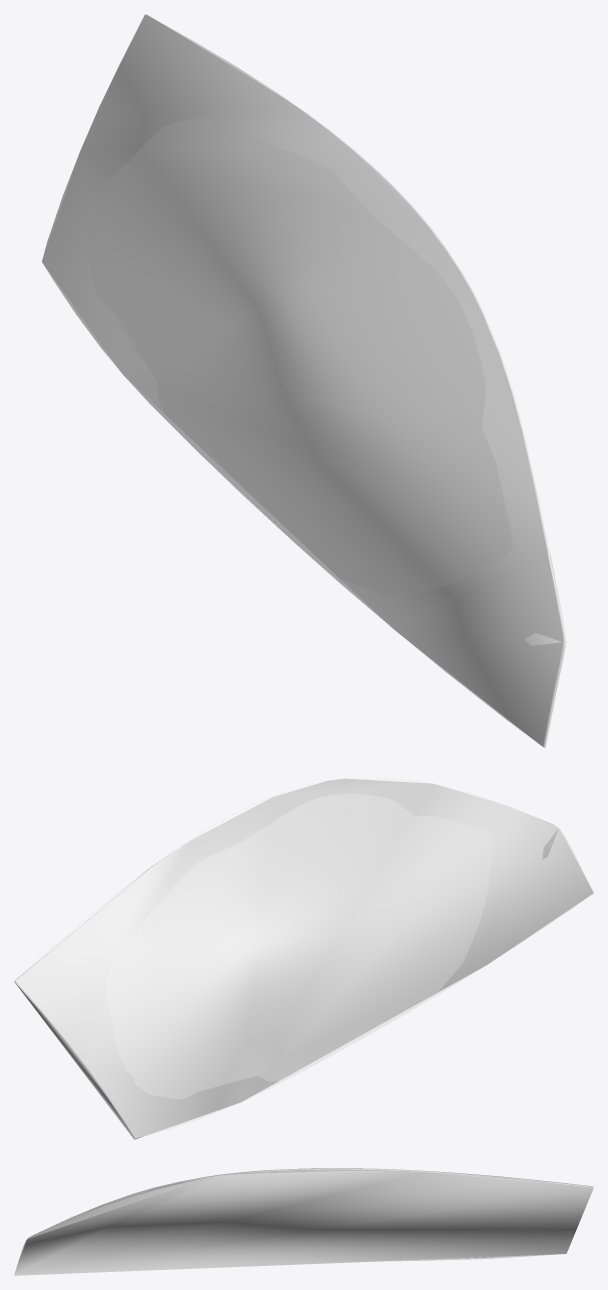
The picture shows the model from 3 angles, top to bottom: view 1: azimuth 30°, elevation 25°; view 2: azimuth 150°, elevation 25°; view 3: azimuth 270°, elevation 25°; orthographic projection. The views are drawn at different scales.
Parts seen in each view (by area): view 1: glass_eclipse_side_window_l_01, glass_eclipse_side_window_l_01_col; view 2: glass_eclipse_side_window_l_01, glass_eclipse_side_window_l_01_col; view 3: glass_eclipse_side_window_l_01_col, glass_eclipse_side_window_l_01.
Part boxes in pixels (x1,y1,x2,y2): glass_eclipse_side_window_l_01: [42, 14, 565, 747]; glass_eclipse_side_window_l_01_col: [42, 14, 566, 747]; glass_eclipse_side_window_l_01: [14, 777, 593, 1139]; glass_eclipse_side_window_l_01_col: [14, 779, 593, 1139]; glass_eclipse_side_window_l_01_col: [14, 1169, 593, 1275]; glass_eclipse_side_window_l_01: [15, 1168, 593, 1272].
Bounding box in the file's own units: 0.2103 × 0.316 × 1.13.
2 materials, 2 textured.
